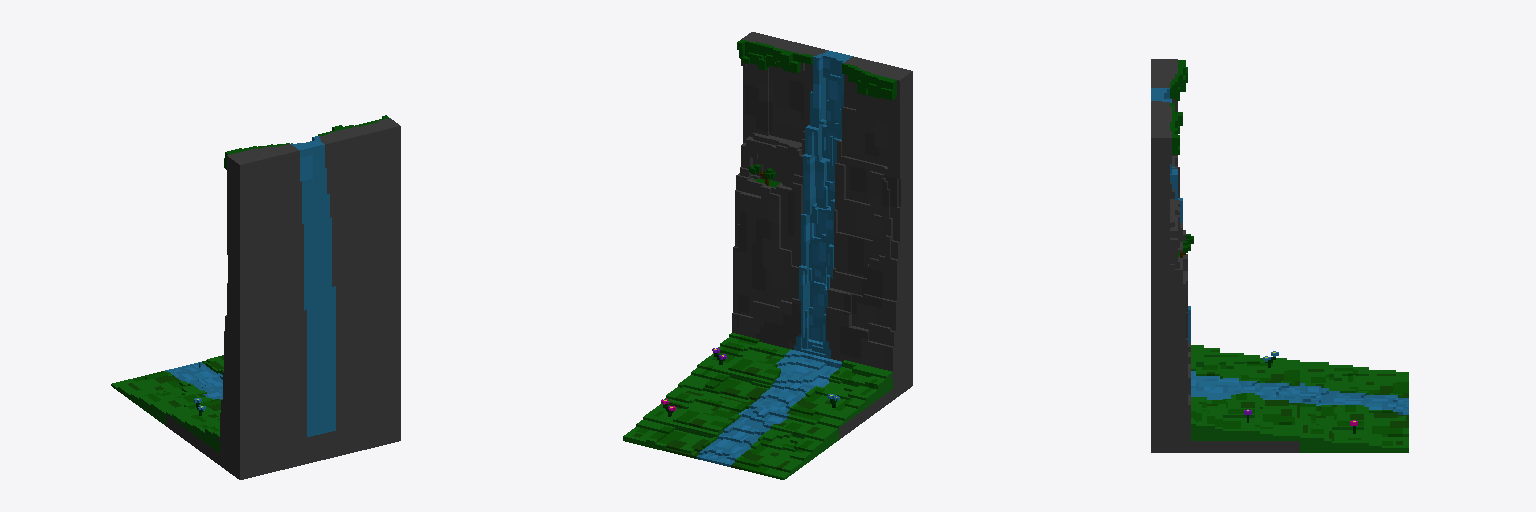
The picture shows the model from 3 angles: view 1: azimuth 30°, elevation 25°; view 2: azimuth 150°, elevation 25°; view 3: azimuth 270°, elevation 25°; orthographic projection.
Visible parts, largest first — view 1: object 1; view 2: object 1; view 3: object 1.
Part boxes in pixels (x1,y1,x2,y2): object 1: (111,115,400,479); object 1: (623,32,912,479); object 1: (1151,59,1408,452).
Bounding box in the file's own units: 7 × 13.1 × 9.7.
Materials: 1 (1 with a texture image).